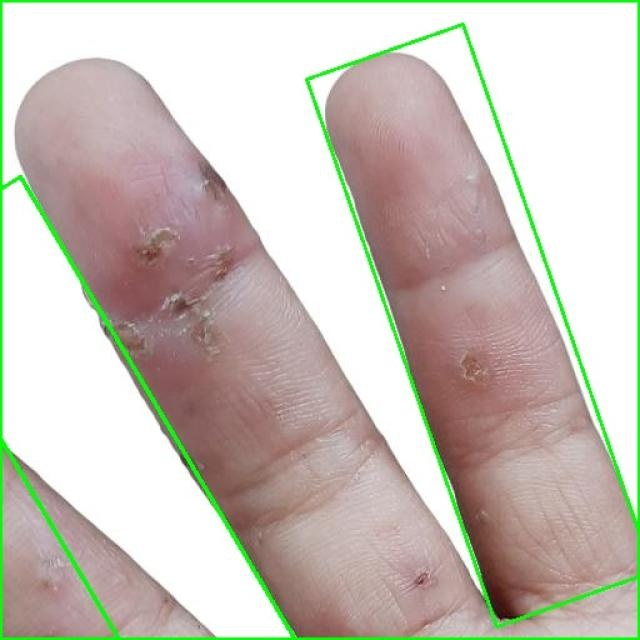Scabies: (0, 0, 639, 639), (307, 25, 640, 627), (0, 149, 294, 640)
